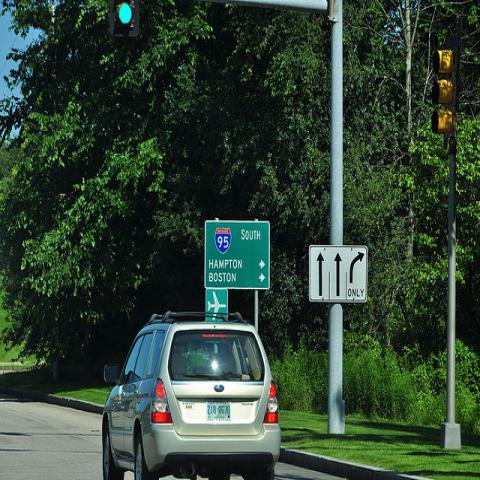car: (101, 309, 282, 479)
